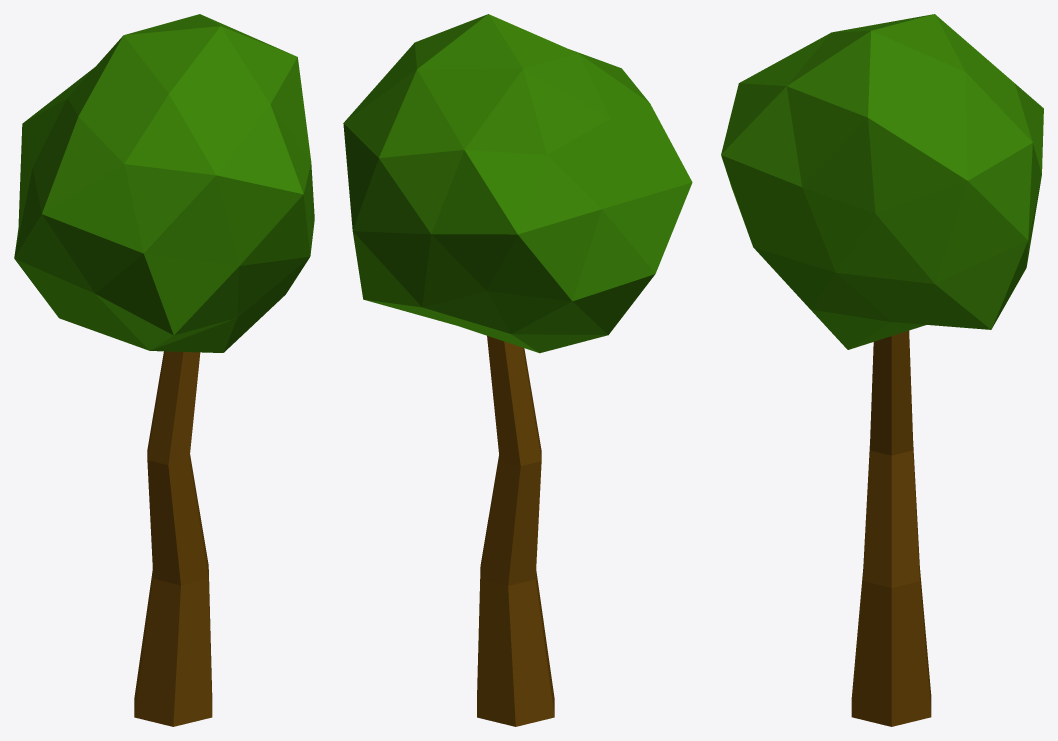
The model's file is Tree_FBX.fbx.
The picture shows the model from 3 angles, left to right: view 1: azimuth 30°, elevation 25°; view 2: azimuth 150°, elevation 25°; view 3: azimuth 270°, elevation 25°; orthographic projection. The views are drawn at different scales.
Parts seen in each view (by area): view 1: Tree_ID, treeTrunk; view 2: Tree_ID, treeTrunk; view 3: Tree_ID, treeTrunk.
Part boxes in pixels (x1,y1,x2,y2): Tree_ID: (14,14,314,352); treeTrunk: (134,351,212,726); Tree_ID: (343,14,692,353); treeTrunk: (477,336,554,726); Tree_ID: (721,14,1043,349); treeTrunk: (851,330,931,726).
Bounding box in the file's own units: 4.59 × 10.06 × 4.23.
